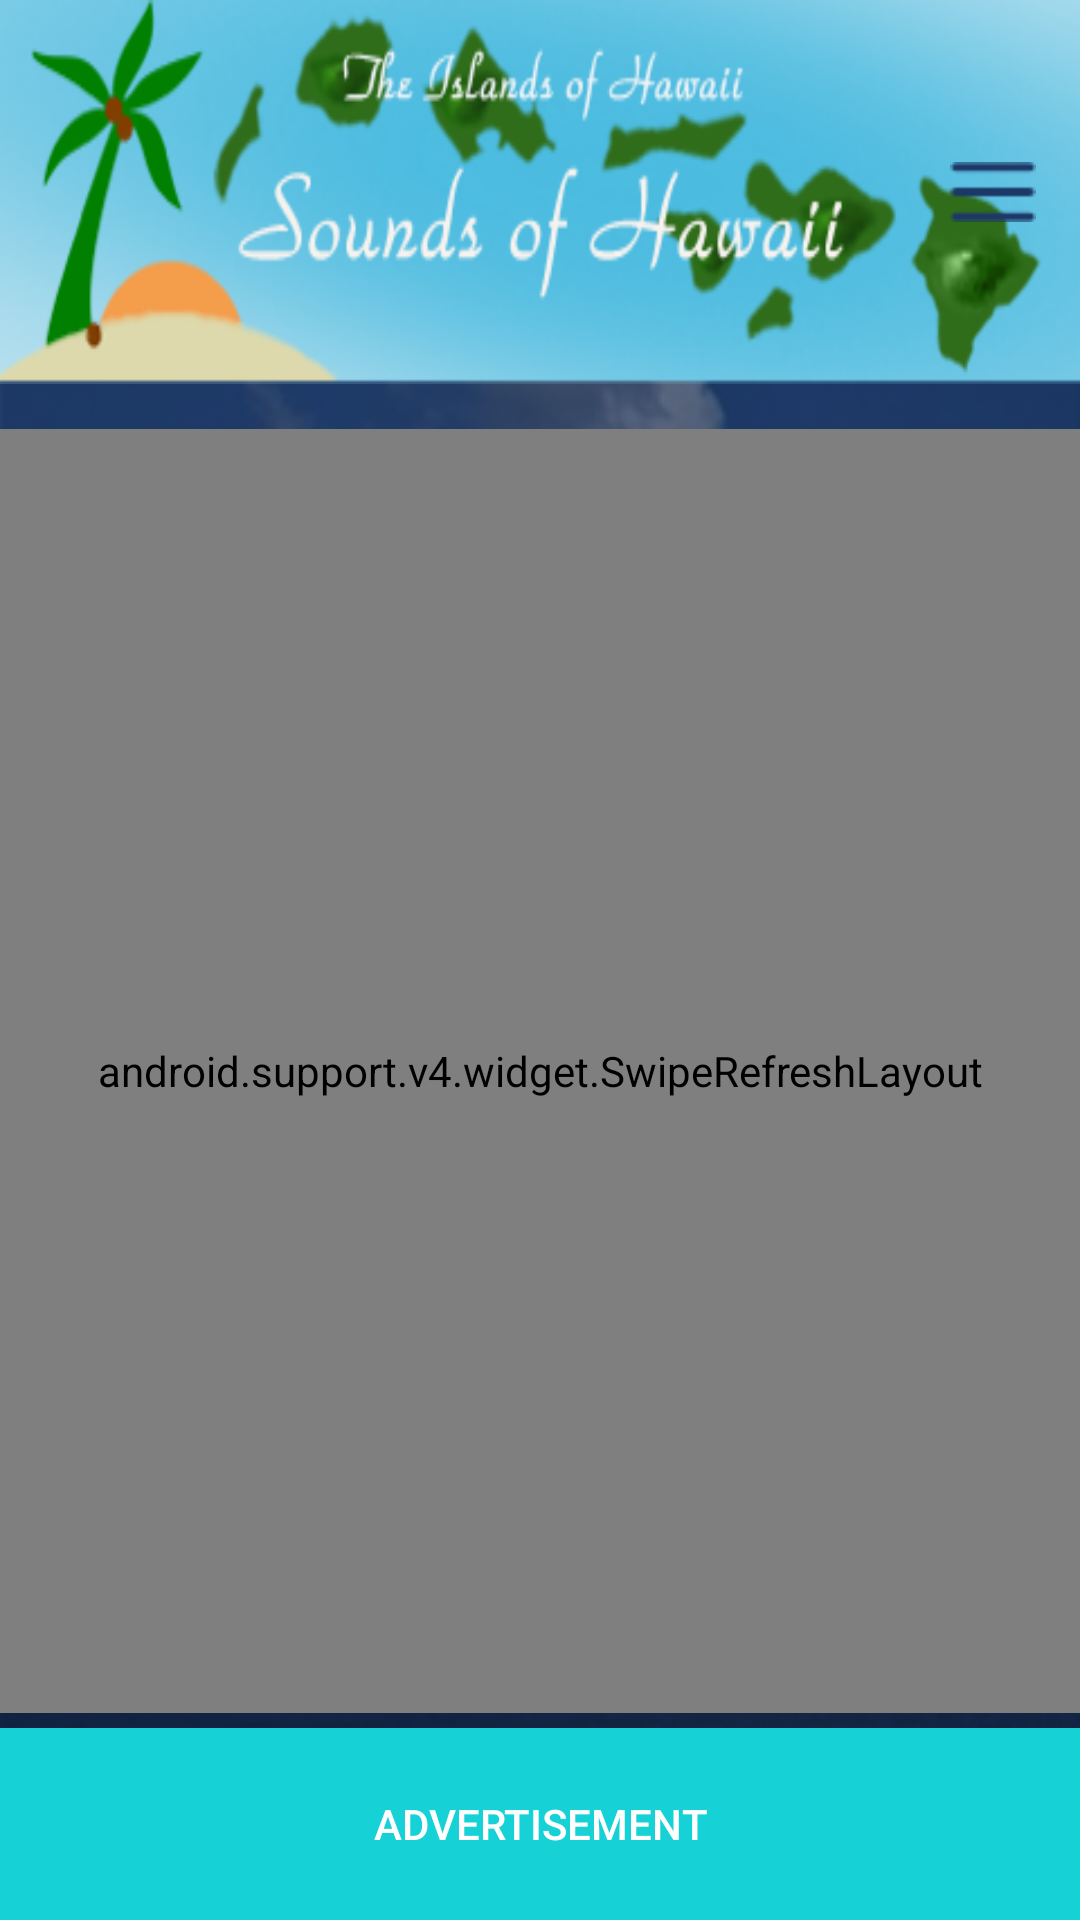

Where to tap for icons on this 1080w x 1920h app screen, as [x,y]:
menu: [992,192]
